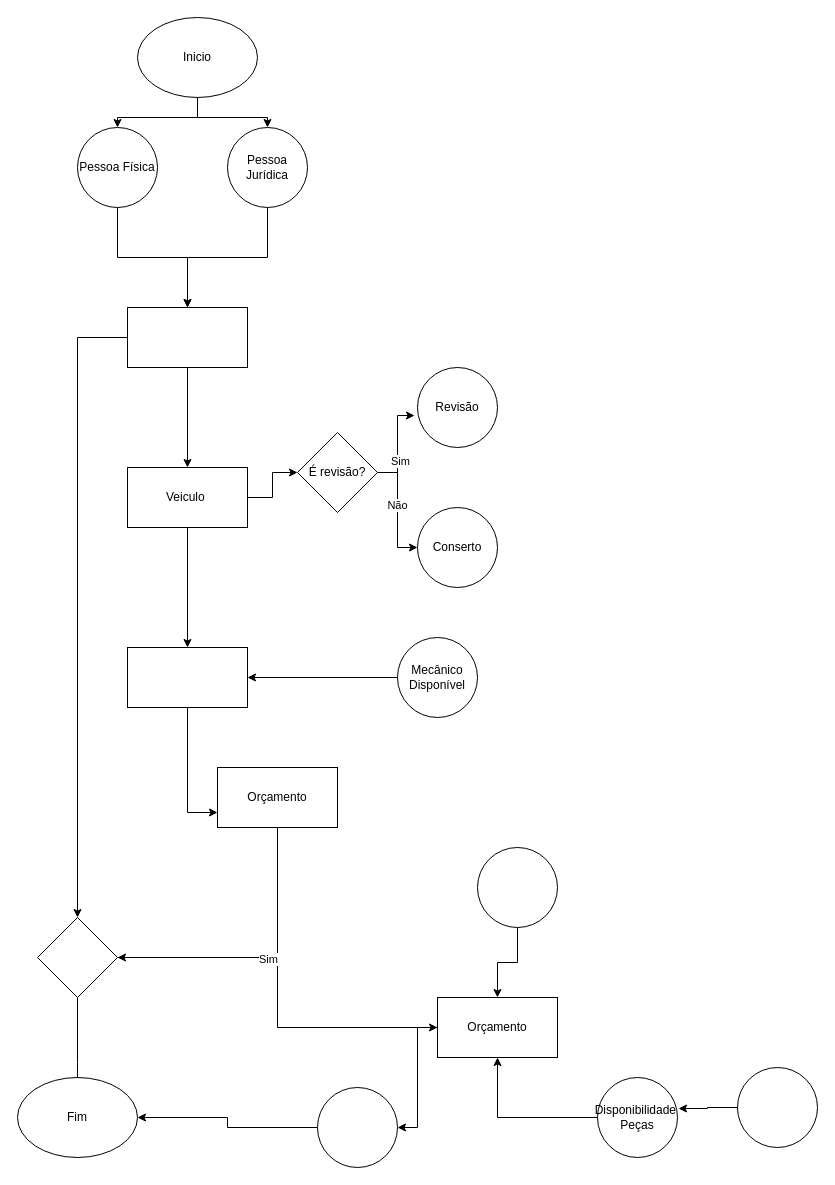
The diagram is 835 pixels wide and 1185 high, and some of its shapes have lost their labels. Here are the shapes that lost their labels. From the top down, the centre of each, then its label:
point (187, 337): Cliente
point (187, 677): Equipe Mecânico
point (517, 887): Tab_preço
point (77, 957): Aprova orçamento
point (357, 1127): Serviço
point (777, 1107): Peça
